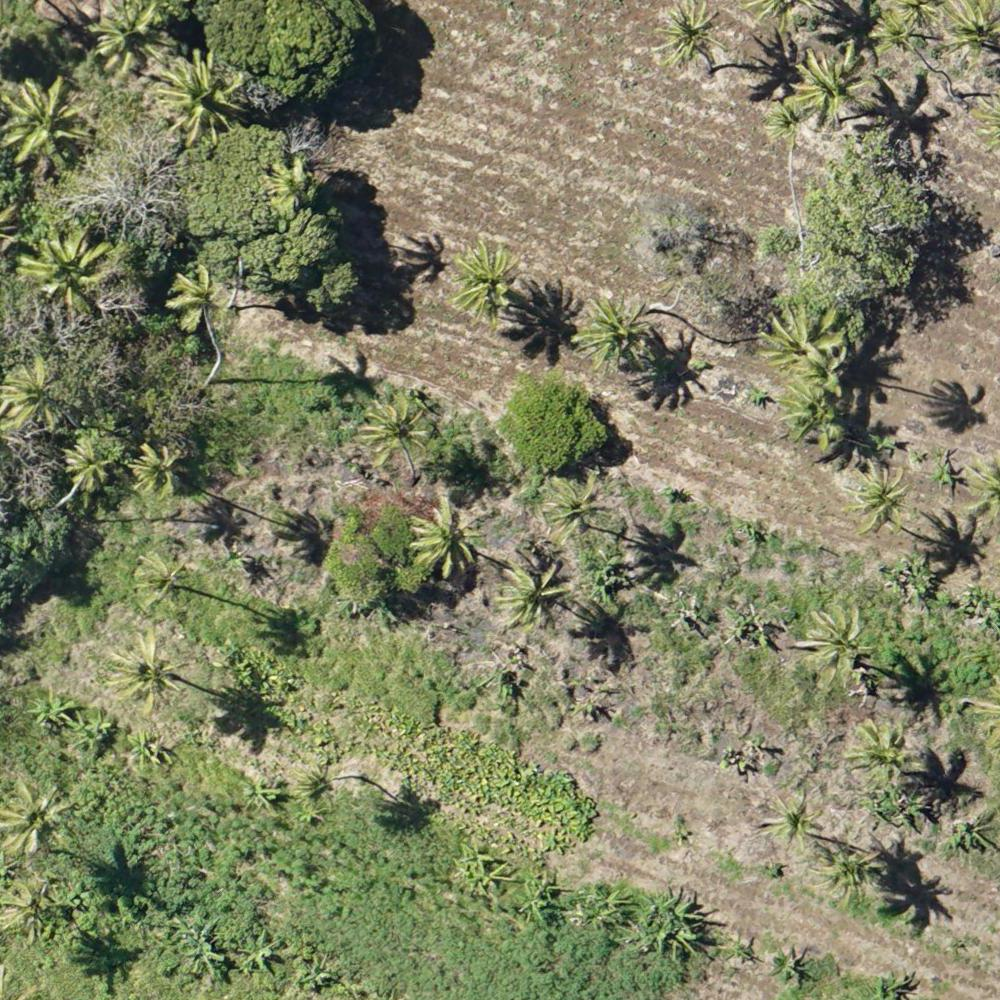Palm: (1, 76, 97, 164), (15, 228, 114, 313), (156, 50, 245, 143), (405, 494, 479, 578), (112, 634, 188, 715), (2, 775, 69, 864), (799, 605, 873, 685), (764, 307, 843, 380), (797, 45, 868, 125), (541, 469, 615, 544), (849, 715, 922, 790), (580, 294, 652, 367), (455, 241, 522, 319), (495, 557, 569, 626), (92, 1, 168, 67), (2, 360, 68, 435), (658, 2, 732, 68), (846, 460, 912, 531), (362, 391, 425, 463), (785, 376, 850, 444), (941, 1, 1000, 73), (166, 265, 230, 331), (764, 790, 831, 847), (820, 841, 883, 901), (132, 547, 191, 608), (262, 157, 319, 213), (128, 439, 183, 494), (63, 438, 115, 494), (296, 759, 339, 817), (763, 93, 809, 142), (872, 14, 919, 57)
